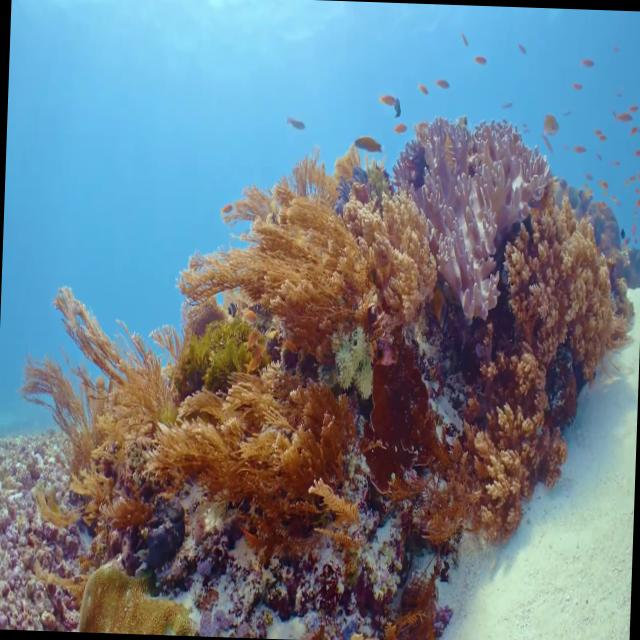fish: (346, 128, 391, 158), (536, 100, 560, 139), (374, 89, 400, 115), (472, 46, 491, 74), (429, 74, 454, 94)
